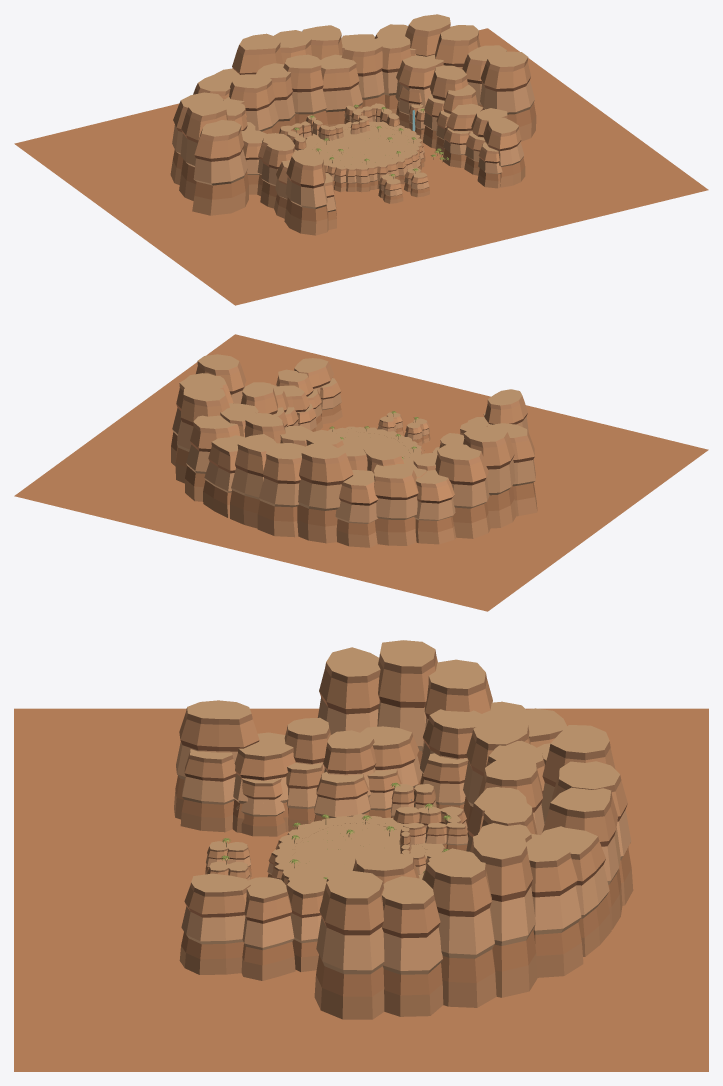
Rendered from durotar-canyon.glb.
The picture shows the model from 3 angles, top to bottom: view 1: azimuth 30°, elevation 25°; view 2: azimuth 150°, elevation 25°; view 3: azimuth 270°, elevation 25°; orthographic projection. The views are drawn at different scales.
Parts seen in each view (by area): view 1: Landscape_OuterMesas_rock0, Landscape_OuterMesas_rock1, Landscape_OuterMesas_sand, Landscape_OuterMesas_rock2, Landscape_OuterMesas_rock3, Landscape_Canyon_sand, Landscape_Canyon_rock1, Landscape_OuterMesas_rock5, Landscape_Canyon_rock2, Landscape_OuterMesas_rock4, Landscape_Canyon_rock3, Landscape_Canyon_rock0; view 2: Landscape_OuterMesas_rock0, Landscape_OuterMesas_rock1, Landscape_OuterMesas_sand, Landscape_OuterMesas_rock2, Landscape_OuterMesas_rock3, Landscape_Canyon_sand, Landscape_OuterMesas_rock5, Landscape_OuterMesas_rock4; view 3: Landscape_OuterMesas_rock0, Landscape_OuterMesas_rock1, Landscape_OuterMesas_sand, Landscape_OuterMesas_rock2, Landscape_OuterMesas_rock3, Landscape_Canyon_sand, Landscape_OuterMesas_rock5, Landscape_OuterMesas_rock4, Landscape_Canyon_rock1, Landscape_Canyon_rock2, Landscape_Canyon_rock3.
Part boxes in pixels (x1,y1,x2,y2): Landscape_OuterMesas_rock0: (14,28,708,305); Landscape_OuterMesas_rock1: (170,30,536,235); Landscape_OuterMesas_sand: (181,14,527,183); Landscape_OuterMesas_rock2: (172,67,534,211); Landscape_OuterMesas_rock3: (178,23,528,186); Landscape_Canyon_sand: (280,103,426,184); Landscape_Canyon_rock1: (279,107,429,203); Landscape_OuterMesas_rock5: (177,54,530,197); Landscape_Canyon_rock2: (295,112,429,195); Landscape_OuterMesas_rock4: (177,92,534,212); Landscape_Canyon_rock3: (280,105,427,185); Landscape_Canyon_rock0: (311,117,429,199); Landscape_OuterMesas_rock0: (14,334,708,611); Landscape_OuterMesas_rock1: (171,365,537,547); Landscape_OuterMesas_sand: (179,354,527,485); Landscape_OuterMesas_rock2: (172,377,535,522); Landscape_OuterMesas_rock3: (179,361,529,489); Landscape_Canyon_sand: (328,412,426,463); Landscape_OuterMesas_rock5: (176,381,534,505); Landscape_OuterMesas_rock4: (172,403,534,523); Landscape_OuterMesas_rock0: (14,708,708,1071); Landscape_OuterMesas_rock1: (174,656,633,1019); Landscape_OuterMesas_sand: (187,640,619,903); Landscape_OuterMesas_rock2: (176,697,631,970); Landscape_OuterMesas_rock3: (186,650,621,909); Landscape_Canyon_sand: (209,784,465,880); Landscape_OuterMesas_rock5: (180,691,627,938); Landscape_OuterMesas_rock4: (177,746,623,974); Landscape_Canyon_rock1: (205,789,467,886); Landscape_Canyon_rock2: (206,800,468,880); Landscape_Canyon_rock3: (209,787,465,881).
Size of the model in its own units: 680 by 116 by 550.
